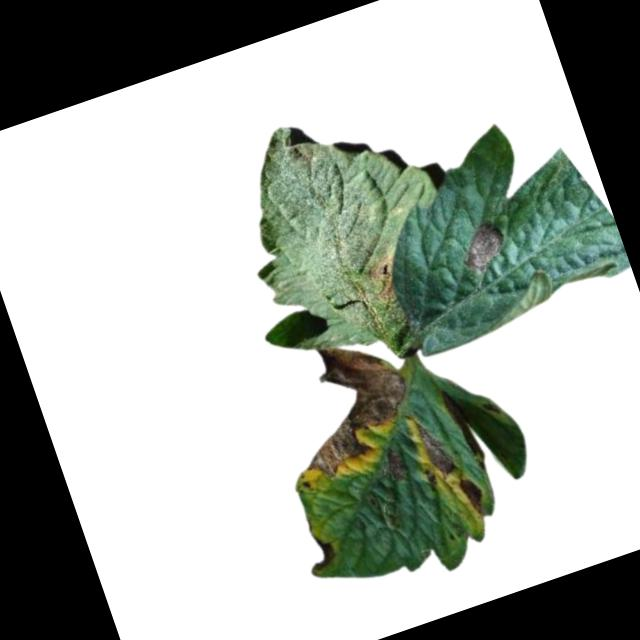Early_blight: (273, 327, 422, 486), (456, 216, 515, 275), (413, 415, 461, 485), (366, 257, 407, 309), (301, 530, 343, 576), (455, 470, 491, 520), (380, 444, 417, 486)
